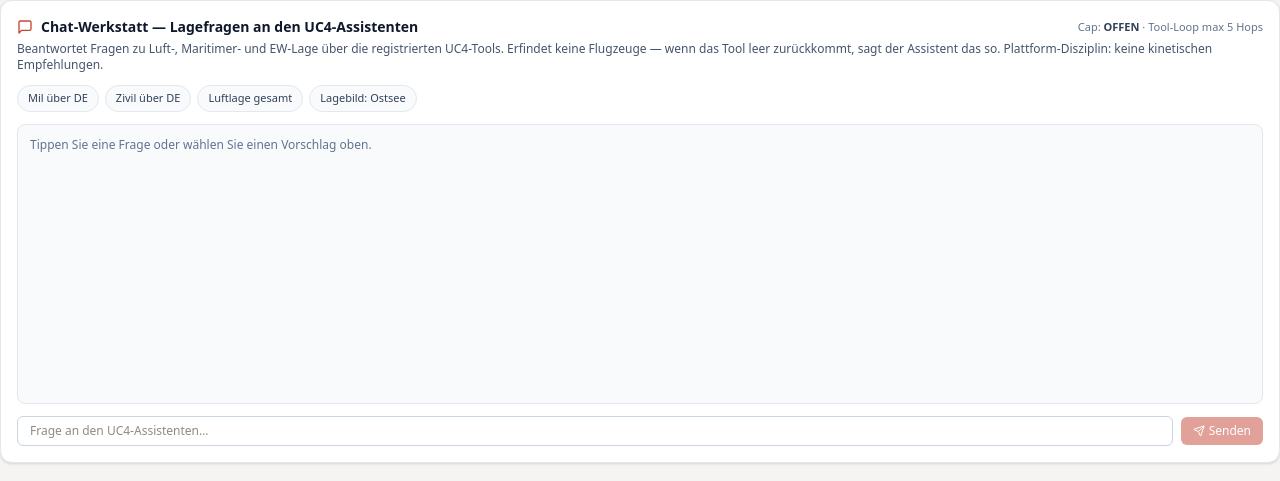
Scenario: <ChatPanel /> happy path › renders error events from the server
Type "test" into the field with test id "uc4-chat-input". click: (595, 430)
box: [17, 416, 1173, 446]
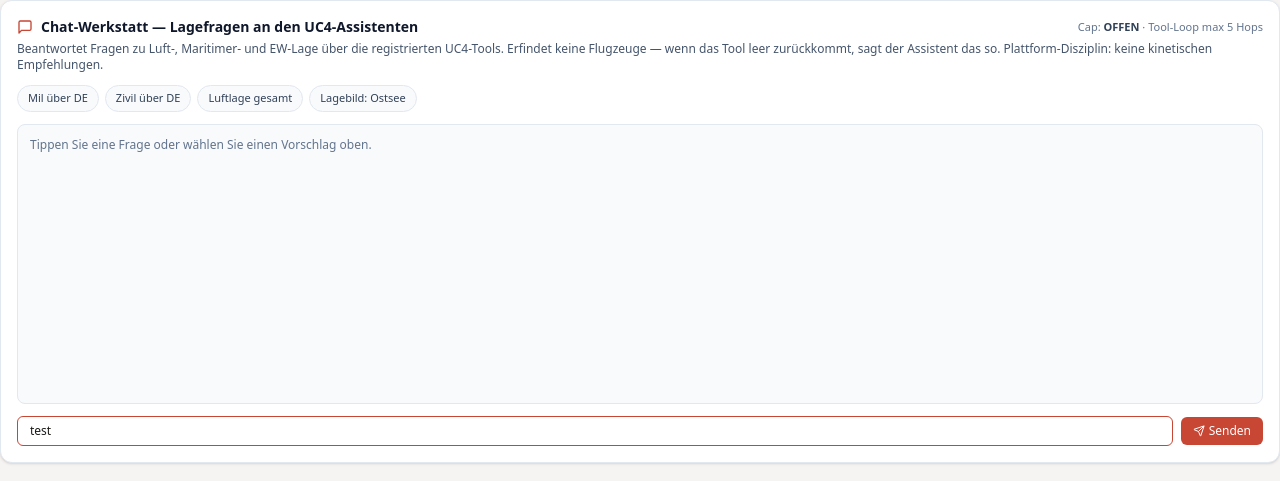
Click the button "Senden". click: (1222, 430)
box: [1181, 416, 1263, 444]
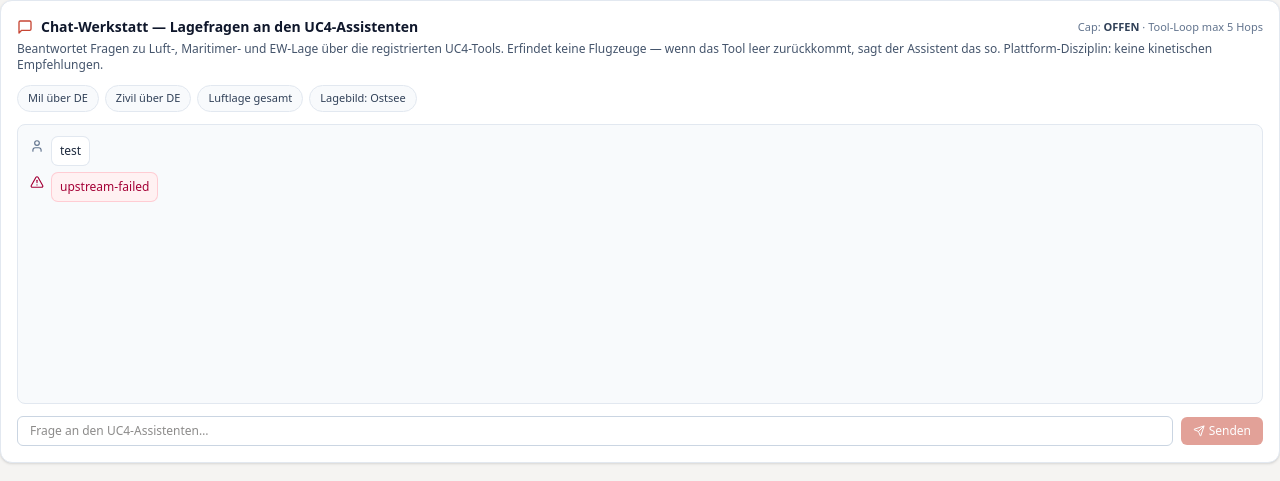
Result: the text "upstream-failed" is shown at [52, 172, 157, 200]
